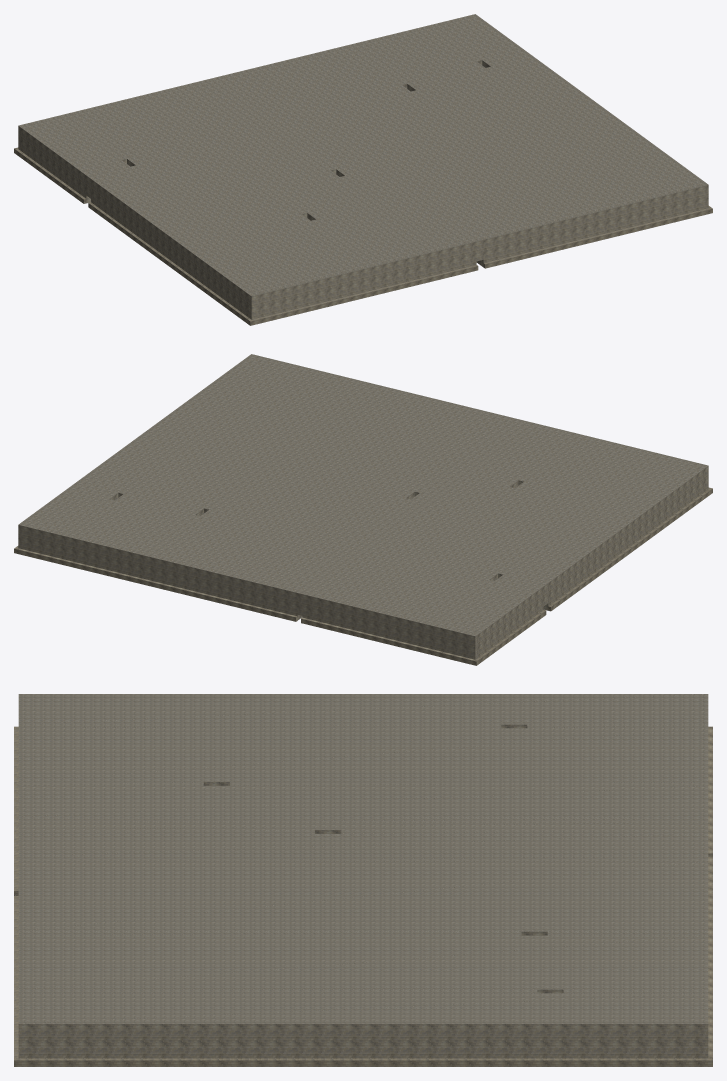
File: fort-base.zfix-v11.lod1.glb
3 renders of one model, top to bottom at view 1: azimuth 30°, elevation 25°; view 2: azimuth 150°, elevation 25°; view 3: azimuth 270°, elevation 25°, orthographic. The views are drawn at different scales.
Parts seen in each view (by area): view 1: fort-base; view 2: fort-base; view 3: fort-base.
Part boxes in pixels (<box>): fort-base: <box>14,14,712,325</box>; fort-base: <box>14,354,712,665</box>; fort-base: <box>14,694,712,1066</box>.
Bounding box in the file's own units: 174 × 10 × 154.
Materials: 2 (2 with a texture image).
